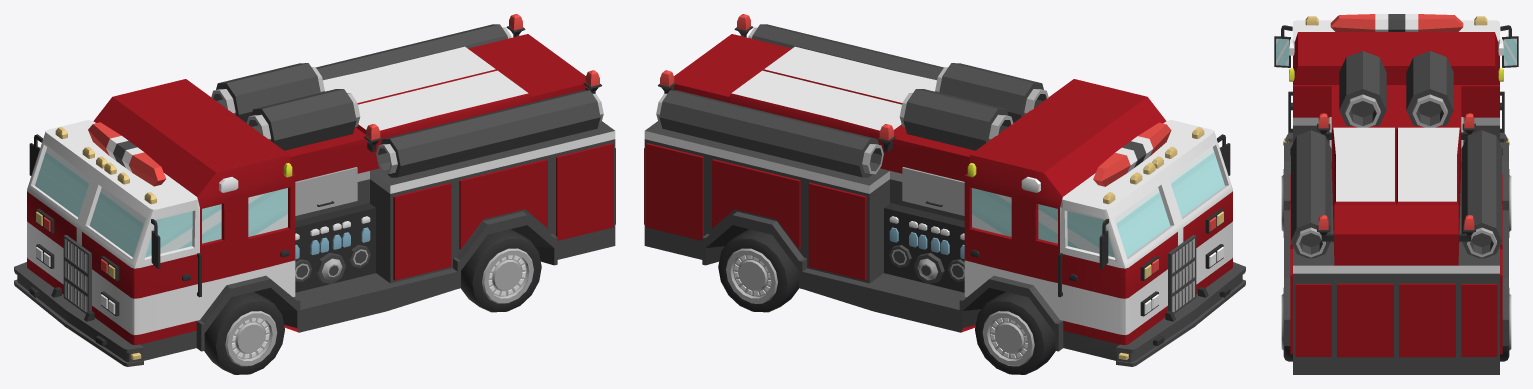
File: Props_FireTruck.fbx
The picture shows the model from 3 angles, left to right: view 1: azimuth 30°, elevation 25°; view 2: azimuth 150°, elevation 25°; view 3: azimuth 270°, elevation 25°; orthographic projection. The views are drawn at different scales.
Parts seen in each view (by area): view 1: Props_FireTruck; view 2: Props_FireTruck; view 3: Props_FireTruck.
Boxes of the visible parts, left/top/right/bottom form: Props_FireTruck: left=14, top=14, right=615, bottom=374; Props_FireTruck: left=644, top=14, right=1245, bottom=374; Props_FireTruck: left=1274, top=14, right=1518, bottom=374.
Bounding box in the file's own units: 527 × 227 × 236.
